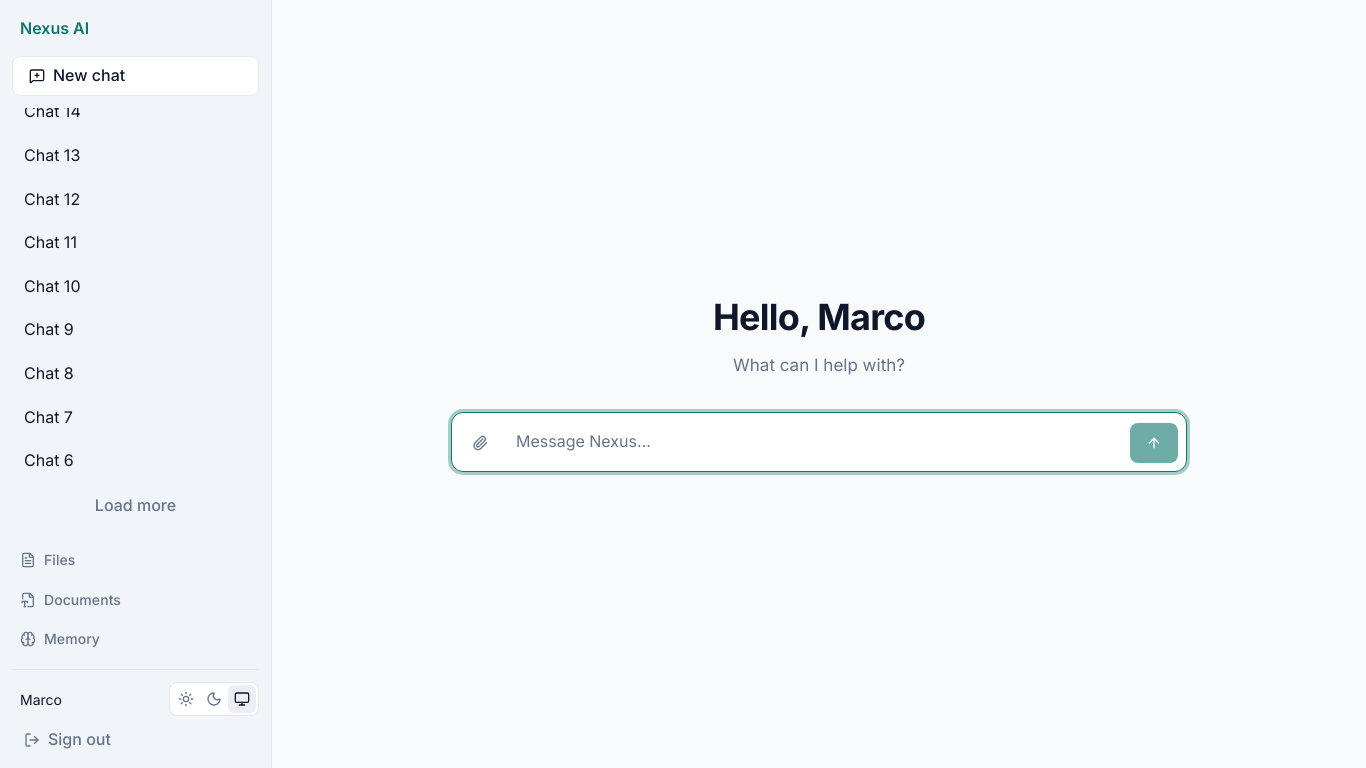
Test: conversation list › loads the next page with the cursor when "Load more" is used
(page scrolled)
What coordinates should you click on to do the following:
click the button "Load more"
I would click on:
 (136, 506)
Its box is [83,490,188,522].
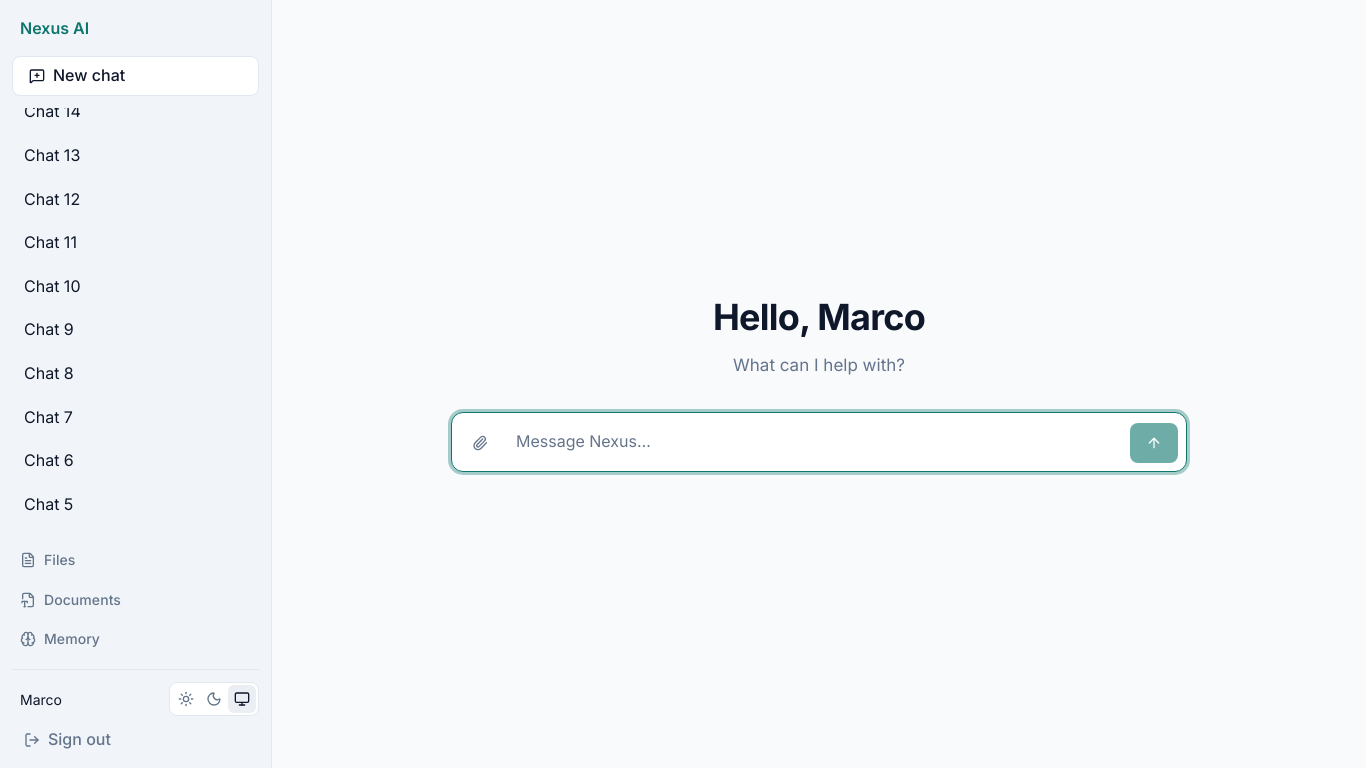
Check: the button "Load more" is gone
